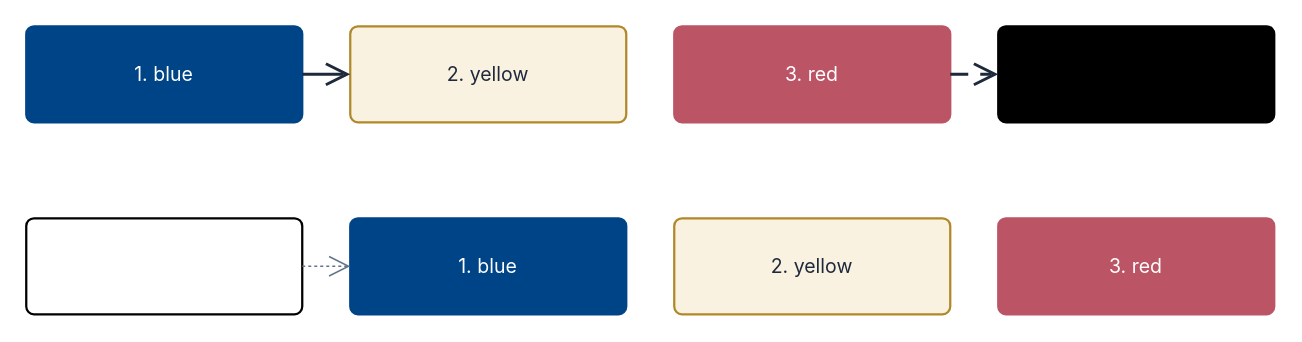
Image size: 1302x342. Some labels were removed from this diagram. Here are the shapes that lost their labels. From the top down, the box of each, then its label:
(996, 24, 1275, 123): 4. black
(24, 216, 303, 315): 5. white
